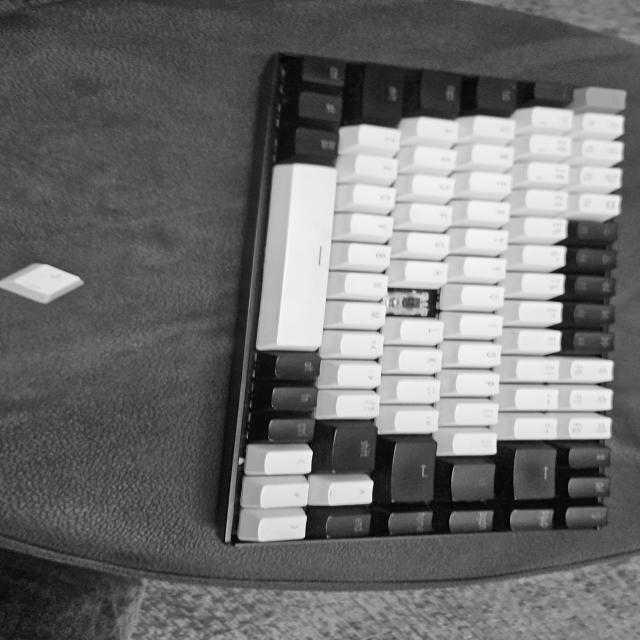C: (393, 289, 424, 316)
